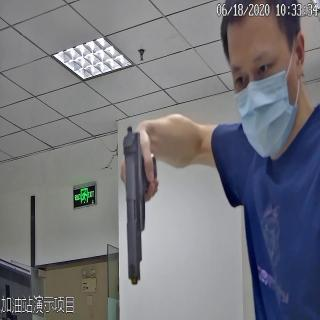gun: (122, 123, 160, 288)
